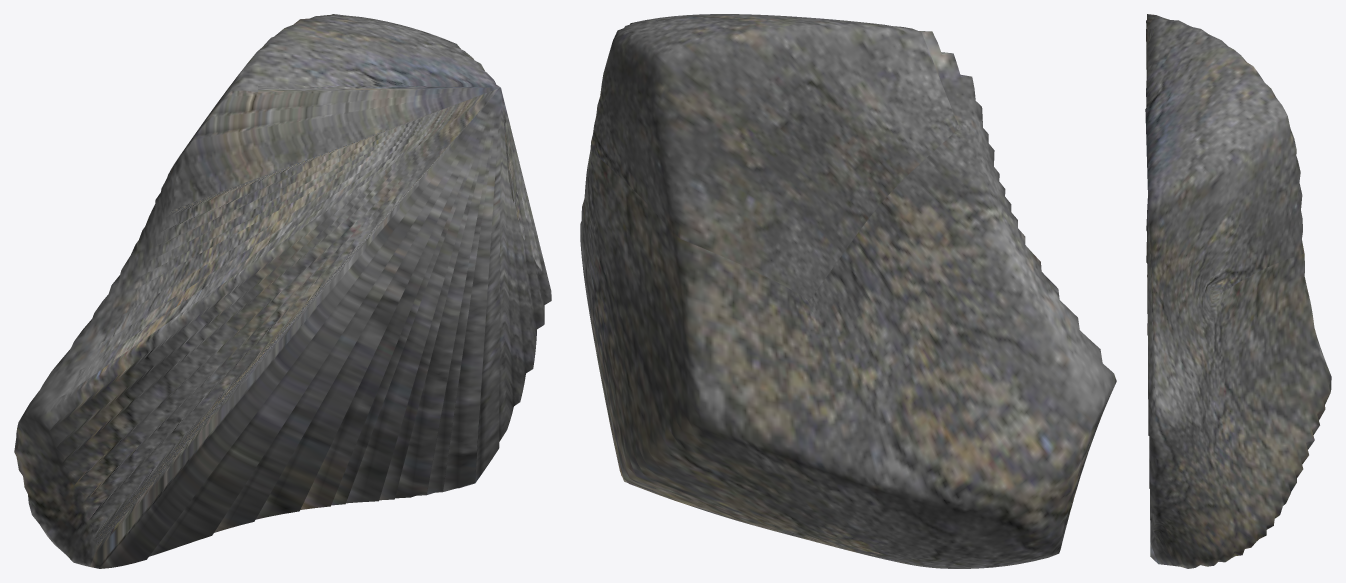
The model's file is stenasperedi1kamen.fbx.
3 renders of one model, left to right at view 1: azimuth 30°, elevation 25°; view 2: azimuth 150°, elevation 25°; view 3: azimuth 270°, elevation 25°, orthographic. The views are drawn at different scales.
Parts seen in each view (by area): view 1: Cube.012; view 2: Cube.012; view 3: Cube.012.
Boxes of the visible parts, x1,y1,x2,y2 form: Cube.012: [14, 14, 551, 568]; Cube.012: [580, 14, 1116, 568]; Cube.012: [1145, 14, 1331, 568].
Size of the model in its own units: 65.77 by 59.31 by 21.82.
